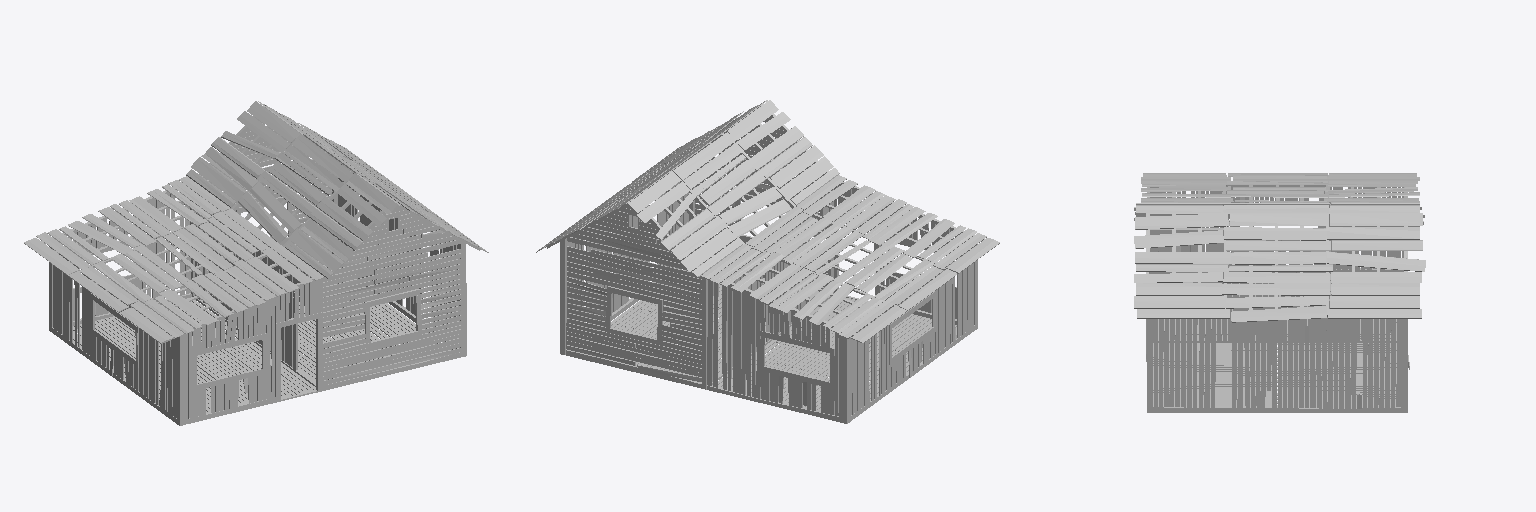
Rendered from house.obj.
The picture shows the model from 3 angles: view 1: azimuth 30°, elevation 25°; view 2: azimuth 150°, elevation 25°; view 3: azimuth 270°, elevation 25°; orthographic projection.
Visible parts, largest first — view 1: house_Cube.016; view 2: house_Cube.016; view 3: house_Cube.016.
Part boxes in pixels (bbox=[...]): house_Cube.016: bbox=[24, 101, 488, 425]; house_Cube.016: bbox=[536, 100, 999, 423]; house_Cube.016: bbox=[1134, 173, 1425, 412].
Bounding box in the file's own units: 10.72 × 5.42 × 8.29.